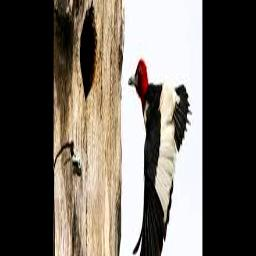Woodpecker: (129, 59, 193, 256)
